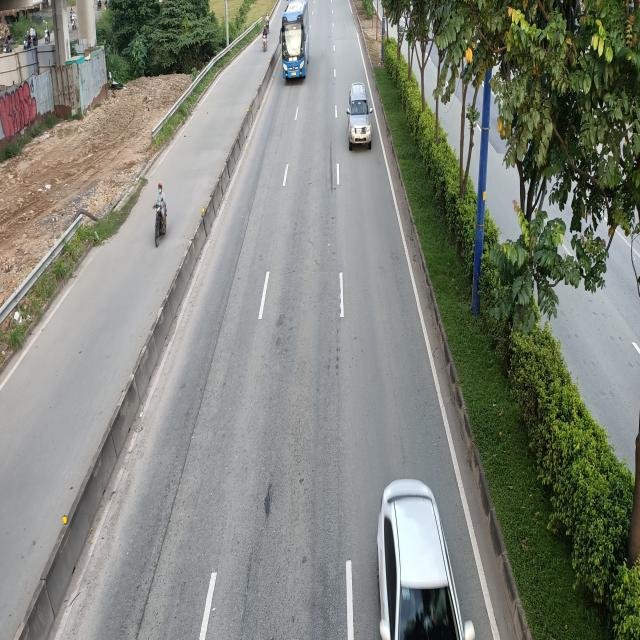car: (377, 476, 478, 638), (347, 82, 374, 148)
coach: (279, 2, 310, 84)
